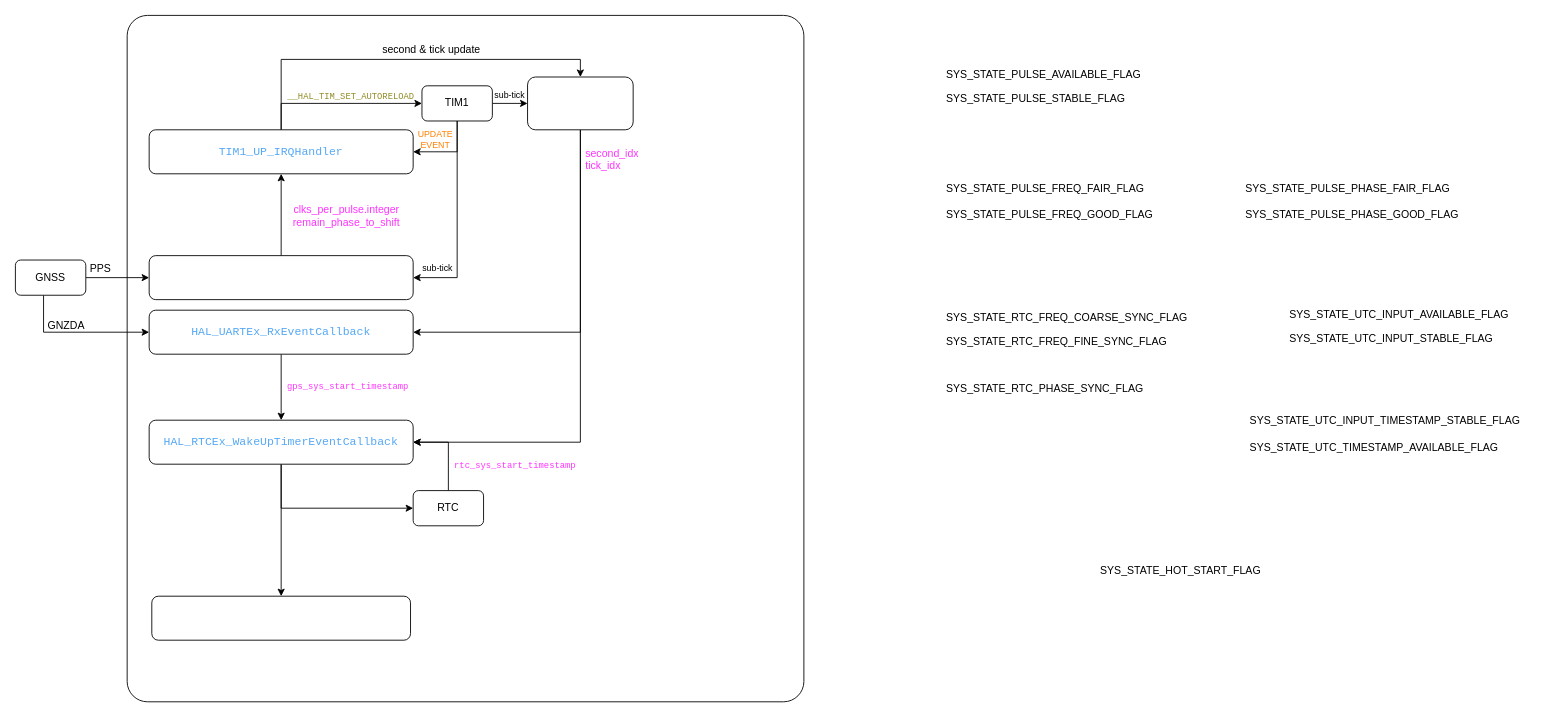
Some shapes in this 1554 by 717 pixel diagram are drawn without their labels. Here are the shapes that lost their labels. From the top down, the centre of each, then its label:
At point 580,103: "SYSTEM TIME".
At point 280,277: "TIM1_CC_IRQHandler".
At point 281,617: "utc_sys_start_timestamp".
